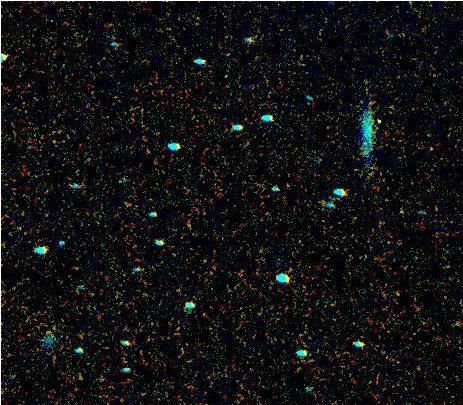star: (360, 105, 390, 135)
